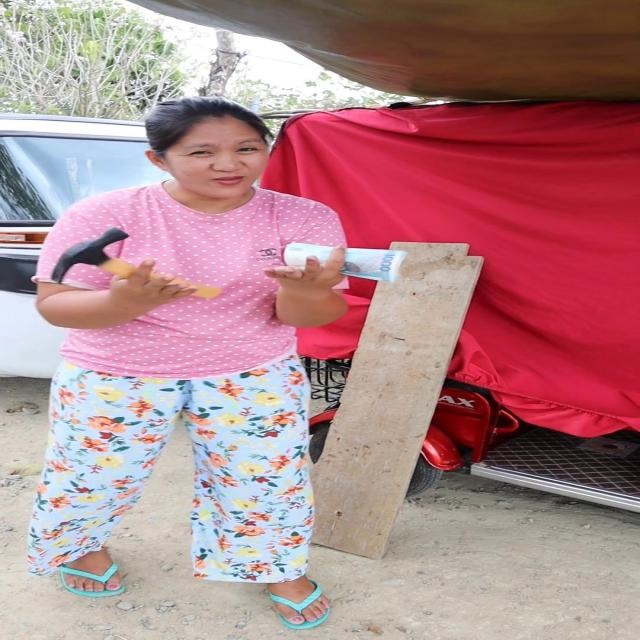hammer: (50, 227, 222, 299)
